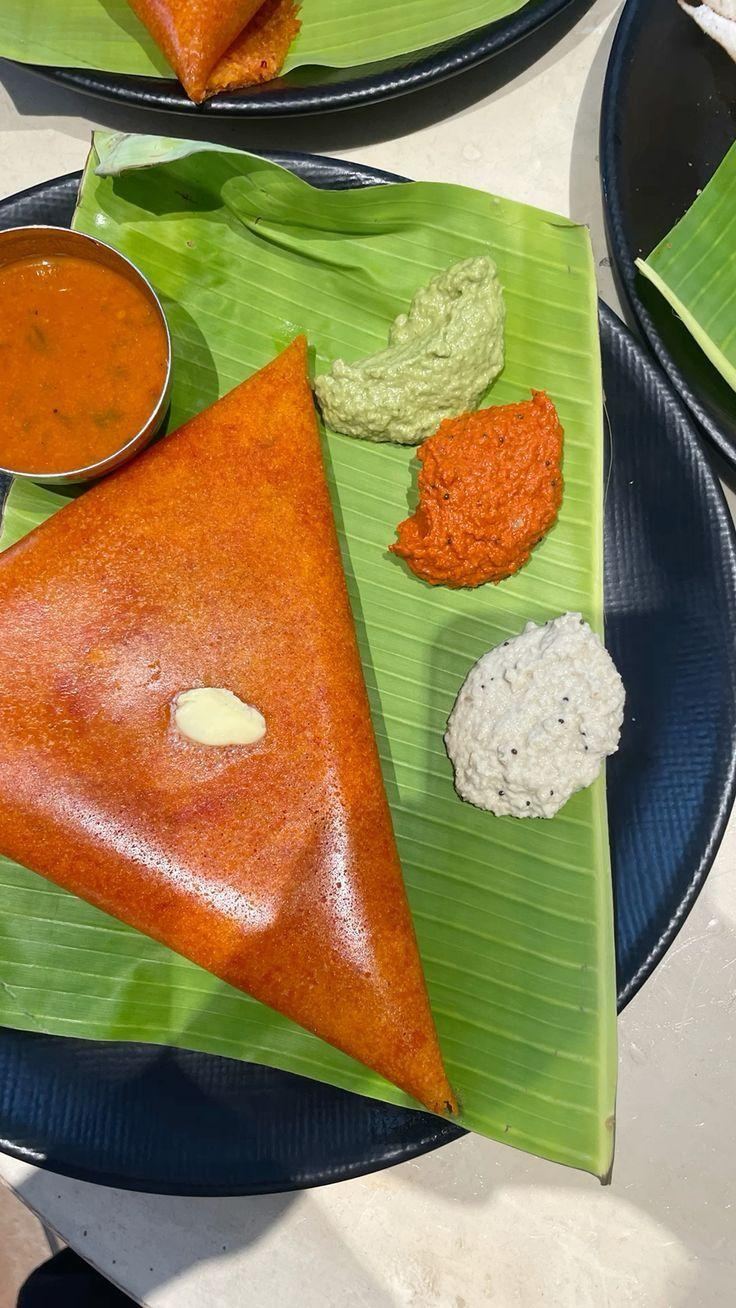dosa: (0, 394, 443, 1126)
